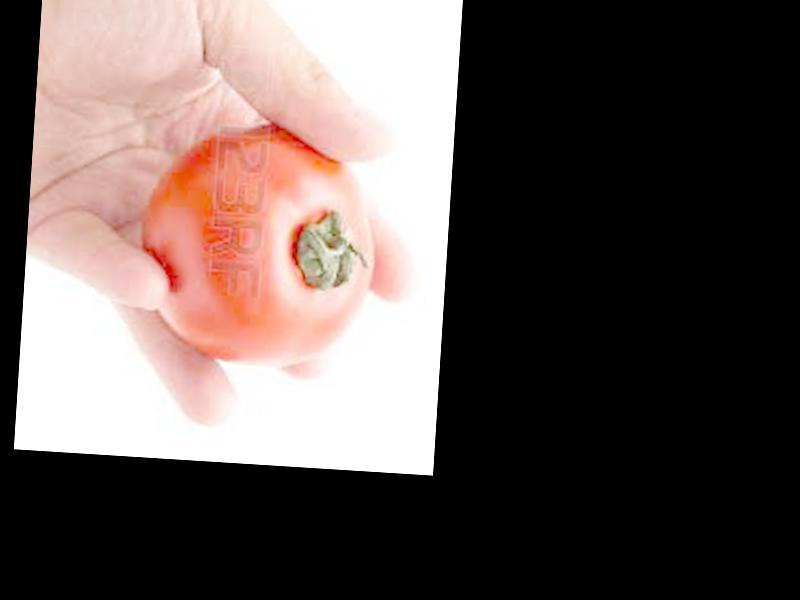Tomato: (135, 119, 381, 373)
